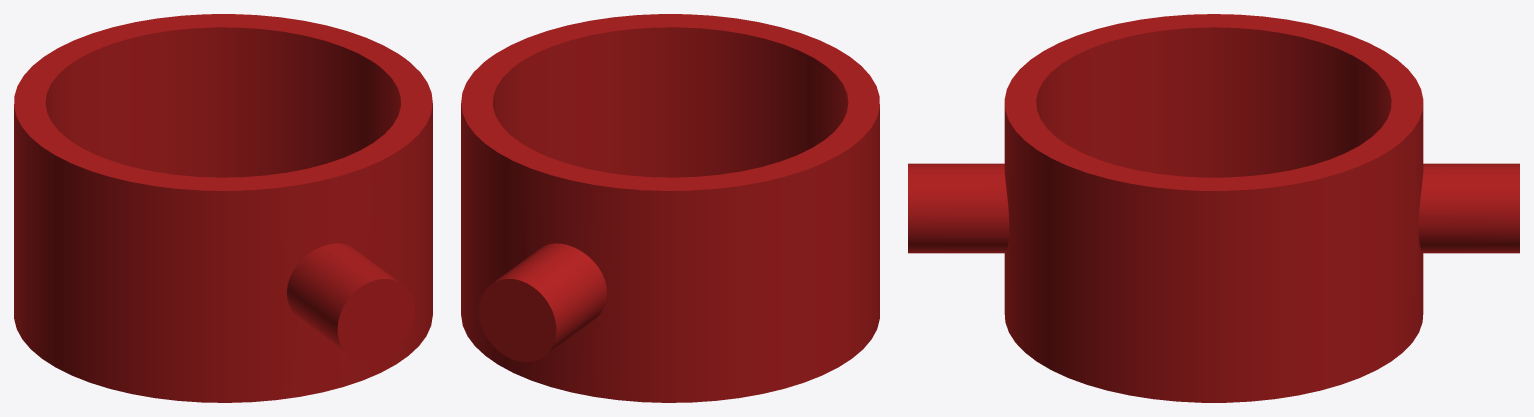
The model's file is walHolder.obj.
The picture shows the model from 3 angles, left to right: view 1: azimuth 30°, elevation 25°; view 2: azimuth 150°, elevation 25°; view 3: azimuth 270°, elevation 25°; orthographic projection.
Visible parts, largest first — view 1: walHolder; view 2: walHolder; view 3: walHolder.
Part boxes in pixels (bbox=[...]): walHolder: bbox=[14, 14, 432, 402]; walHolder: bbox=[461, 14, 879, 402]; walHolder: bbox=[908, 14, 1519, 402].
Size of the model in its own units: 21.5 by 12 by 31.4.
